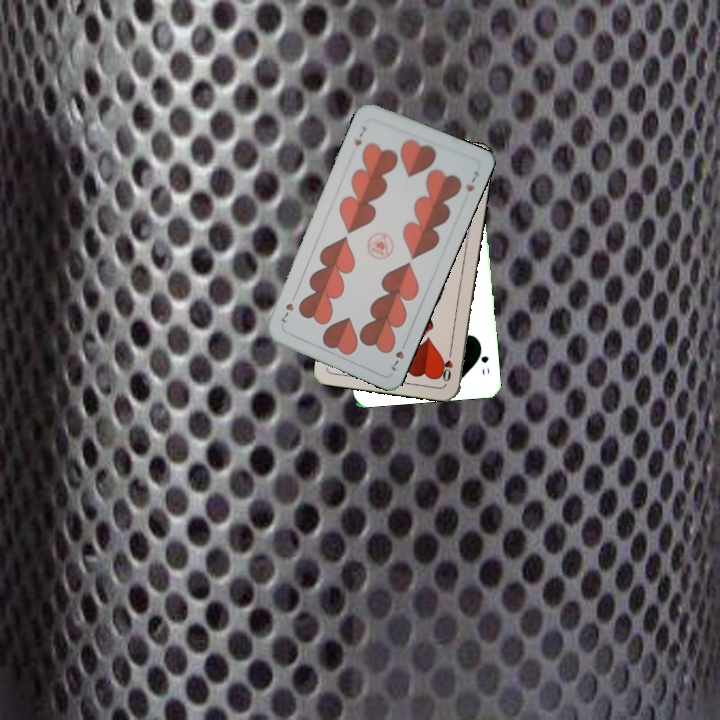GO: (474, 341, 492, 378)
H7: (386, 337, 409, 374), (349, 122, 369, 148)
HO: (438, 345, 456, 385)
